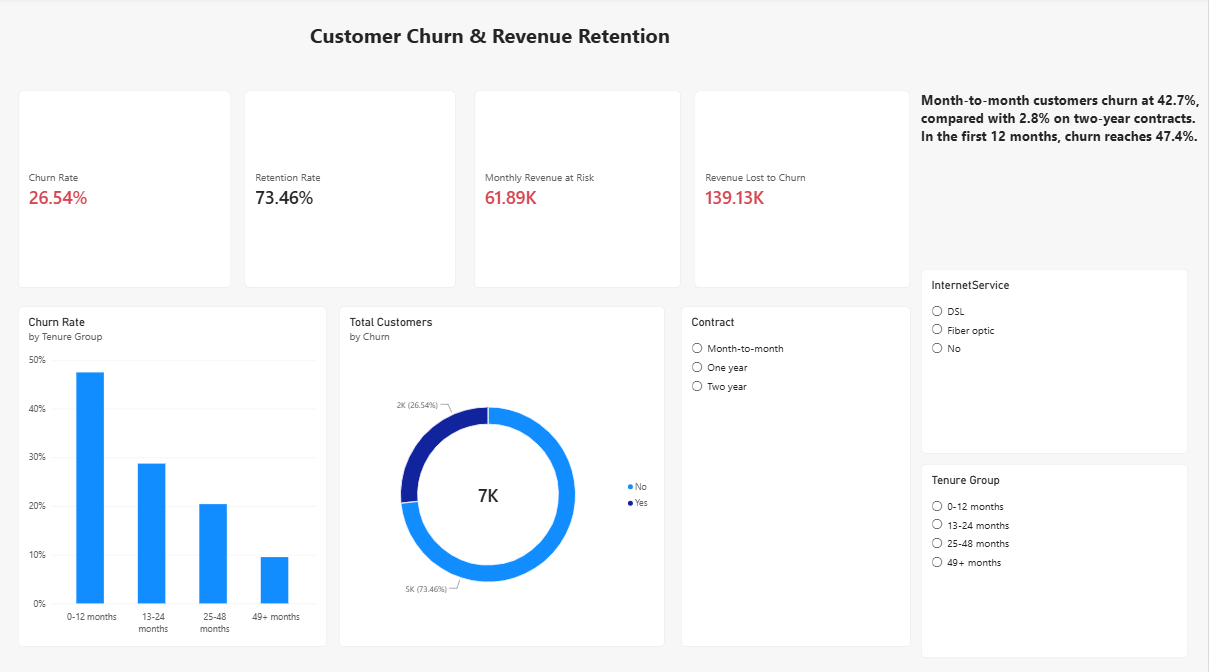

This screenshot's page, from the dashboard's own definition file:
{"tool":"powerbi","page":{"name":"Executive Overview","canvas":[1920,1080],"ordinal":0},"visuals":[{"type":"cardVisual","fields":{"Data":["Customers.Churn Rate"]},"box":[28.6,150.3,338.8,314.9],"z":0},{"type":"cardVisual","fields":{"Data":["Customers.Retention Rate"]},"box":[388.9,150.3,336.4,314.9],"z":1},{"type":"cardVisual","fields":{"Data":["Customers.Monthly Revenue at Risk"]},"box":[753.9,150.3,329.3,314.9],"z":2},{"type":"cardVisual","fields":{"Data":["Customers.Revenue Lost to Churn"]},"box":[1104.7,150.3,343.6,314.9],"z":3},{"type":"clusteredColumnChart","fields":{"Category":["Customers.Tenure Group"],"Y":["Customers.Churn Rate"]},"box":[28.6,493.9,491.5,541.6],"z":4},{"type":"donutChart","fields":{"Category":["Customers.Churn"],"Y":["Customers.Total Customers"]},"box":[539.2,493.9,517.7,541.6],"z":5},{"type":"listSlicer","fields":{"Values":["Customers.Contract"]},"box":[1083.2,493.9,365,541.6],"z":6},{"type":"listSlicer","fields":{"Values":["Customers.InternetService"]},"box":[1465,434.2,424.7,293.5],"z":7},{"type":"listSlicer","fields":{"Values":["Customers.Tenure Group"]},"box":[1465,744.4,424.7,307.8],"z":8},{"type":"textbox","box":[484.3,40.6,722.8,110.6],"z":9},{"type":"textbox","box":[1465,150.3,455.7,250.5],"z":10}]}

Visuals, with their boxes in screenshot pixels (x1, y1, x2, y2), scaled from the page's 1920x1080 canvas onto the 1209x672 screenshot:
cardVisual - Customers.Churn Rate: Rect(18, 94, 231, 289)
cardVisual - Customers.Retention Rate: Rect(245, 94, 457, 289)
cardVisual - Customers.Monthly Revenue at Risk: Rect(475, 94, 682, 289)
cardVisual - Customers.Revenue Lost to Churn: Rect(696, 94, 912, 289)
clusteredColumnChart - Customers.Tenure Group x Customers.Churn Rate: Rect(18, 307, 328, 644)
donutChart - Customers.Churn x Customers.Total Customers: Rect(340, 307, 666, 644)
listSlicer - Customers.Contract: Rect(682, 307, 912, 644)
listSlicer - Customers.InternetService: Rect(922, 270, 1190, 453)
listSlicer - Customers.Tenure Group: Rect(922, 463, 1190, 655)
textbox: Rect(305, 25, 760, 94)
textbox: Rect(922, 94, 1208, 249)
